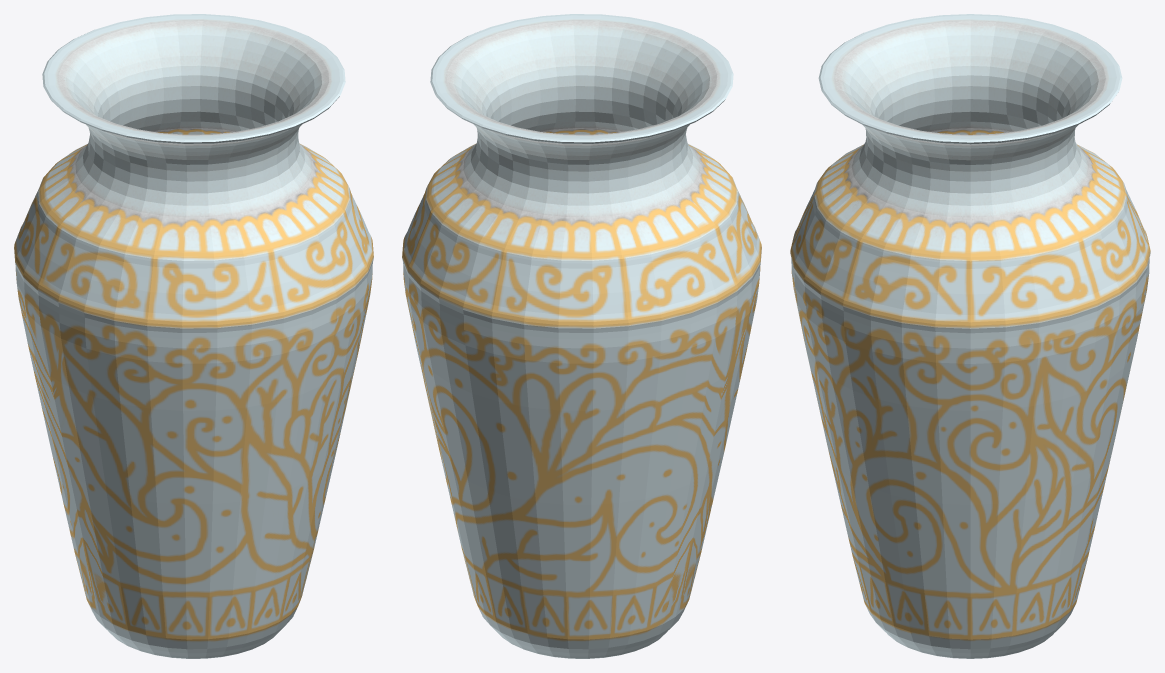
File: VaseScienceFiction.fbx
The picture shows the model from 3 angles, left to right: view 1: azimuth 30°, elevation 25°; view 2: azimuth 150°, elevation 25°; view 3: azimuth 270°, elevation 25°; orthographic projection.
Parts seen in each view (by area): view 1: Vase, Vase24, Vase23, Vase22, Vase25, Vase07, Vase16, Vase08, Vase11, Vase13, Vase27, Vase30 (+14 smaller); view 2: Vase21, Vase20, Vase18, Vase01, Vase, Vase16, Vase17, Vase11, Vase22, Vase23, Vase32, Vase13 (+14 smaller); view 3: Vase, Vase30, Vase29, Vase32, Vase28, Vase31, Vase27, Vase13, Vase09, Vase03, Vase01, Vase24 (+13 smaller).
Part boxes in pixels (x1=…): Vase: x1=69, y1=471, x2=330, y2=658; Vase24: x1=182, y1=216, x2=372, y2=407; Vase23: x1=47, y1=414, x2=243, y2=634; Vase22: x1=26, y1=296, x2=184, y2=545; Vase25: x1=182, y1=335, x2=342, y2=527; Vase07: x1=38, y1=234, x2=212, y2=410; Vase16: x1=14, y1=144, x2=144, y2=289; Vase08: x1=15, y1=212, x2=162, y2=361; Vase11: x1=42, y1=14, x2=253, y2=129; Vase13: x1=141, y1=35, x2=265, y2=134; Vase27: x1=268, y1=252, x2=373, y2=472; Vase30: x1=287, y1=161, x2=373, y2=407; Vase21: x1=448, y1=204, x2=659, y2=457; Vase20: x1=492, y1=255, x2=684, y2=481; Vase18: x1=448, y1=408, x2=615, y2=624; Vase01: x1=469, y1=14, x2=656, y2=111; Vase: x1=456, y1=526, x2=706, y2=658; Vase16: x1=629, y1=152, x2=748, y2=320; Vase17: x1=562, y1=296, x2=737, y2=550; Vase11: x1=447, y1=82, x2=648, y2=239; Vase22: x1=666, y1=268, x2=759, y2=515; Vase23: x1=614, y1=402, x2=735, y2=623; Vase32: x1=409, y1=266, x2=472, y2=458; Vase13: x1=447, y1=90, x2=543, y2=228; Vase: x1=830, y1=433, x2=1093, y2=658; Vase30: x1=804, y1=195, x2=943, y2=456; Vase29: x1=833, y1=186, x2=1082, y2=333; Vase32: x1=935, y1=237, x2=1147, y2=500; Vase28: x1=970, y1=210, x2=1136, y2=410; Vase31: x1=995, y1=355, x2=1133, y2=596; Vase27: x1=806, y1=300, x2=943, y2=526; Vase13: x1=970, y1=125, x2=1105, y2=226; Vase09: x1=950, y1=27, x2=1076, y2=128; Vase03: x1=831, y1=14, x2=970, y2=84; Vase01: x1=818, y1=77, x2=949, y2=180; Vase24: x1=790, y1=150, x2=879, y2=366.
Bounding box in the file's own units: 29.87 × 49.89 × 29.87.
1 material, 1 textured.
